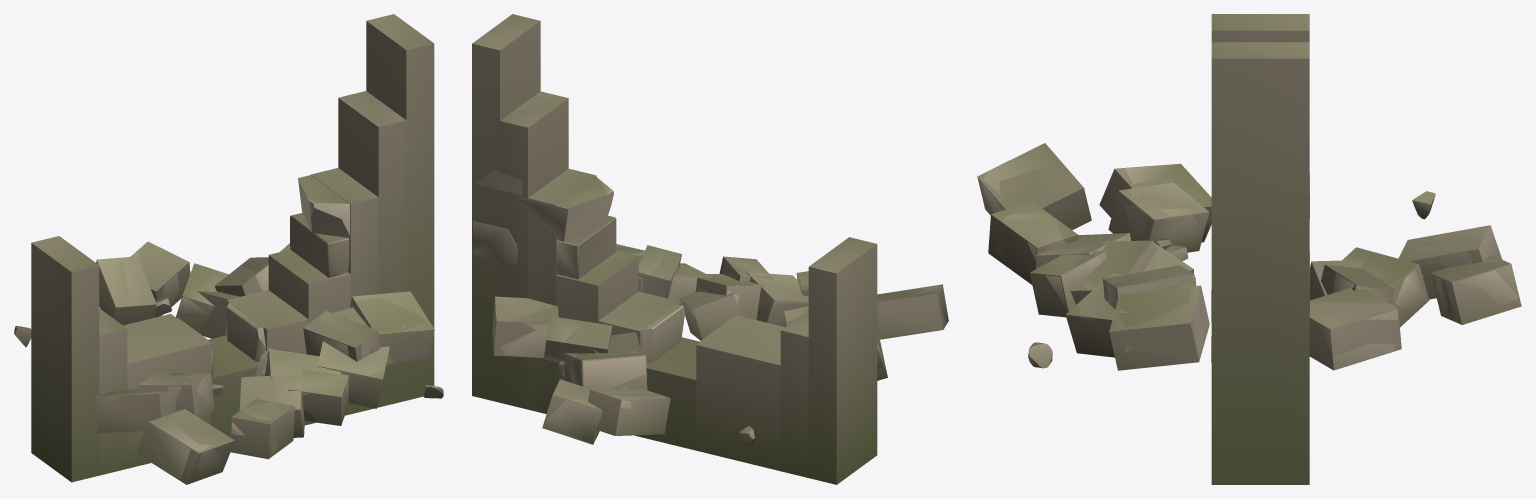
File: theatre_stage_fallen.glb
3 renders of one model, left to right at view 1: azimuth 30°, elevation 25°; view 2: azimuth 150°, elevation 25°; view 3: azimuth 270°, elevation 25°, orthographic. The views are drawn at different scales.
Parts seen in each view (by area): view 1: theatre_stage_fallen_far, theatre_stage_fallen; view 2: theatre_stage_fallen_far, theatre_stage_fallen; view 3: theatre_stage_fallen_far, theatre_stage_fallen.
Part boxes in pixels (x1,y1,x2,y2): theatre_stage_fallen_far: [31, 14, 434, 484]; theatre_stage_fallen: [14, 175, 443, 479]; theatre_stage_fallen_far: [472, 14, 948, 484]; theatre_stage_fallen: [472, 170, 947, 446]; theatre_stage_fallen_far: [977, 14, 1521, 484]; theatre_stage_fallen: [982, 144, 1518, 369].
Bounding box in the file's own units: 26.04 × 24 × 27.79.
